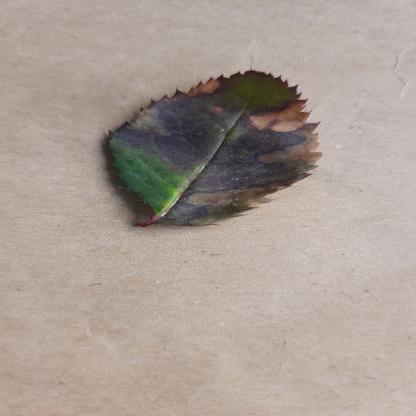powdery-mildew: (106, 68, 332, 228)
